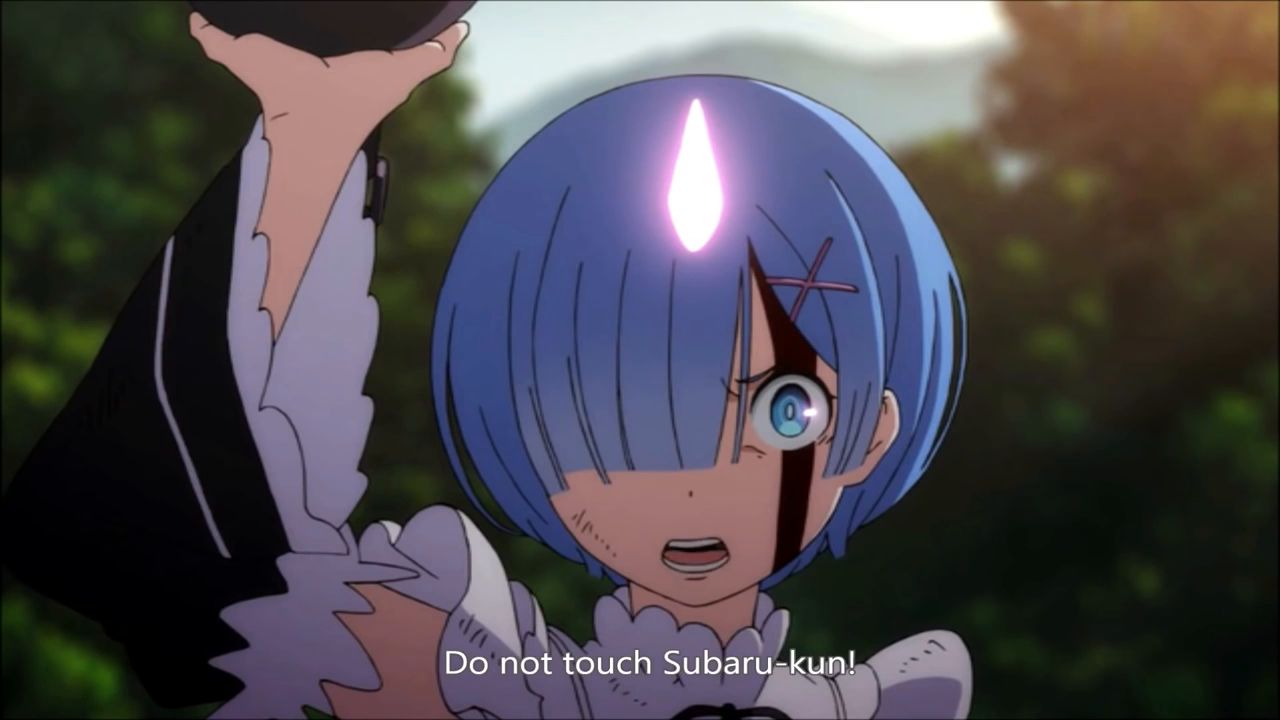REM: (428, 73, 969, 609)
